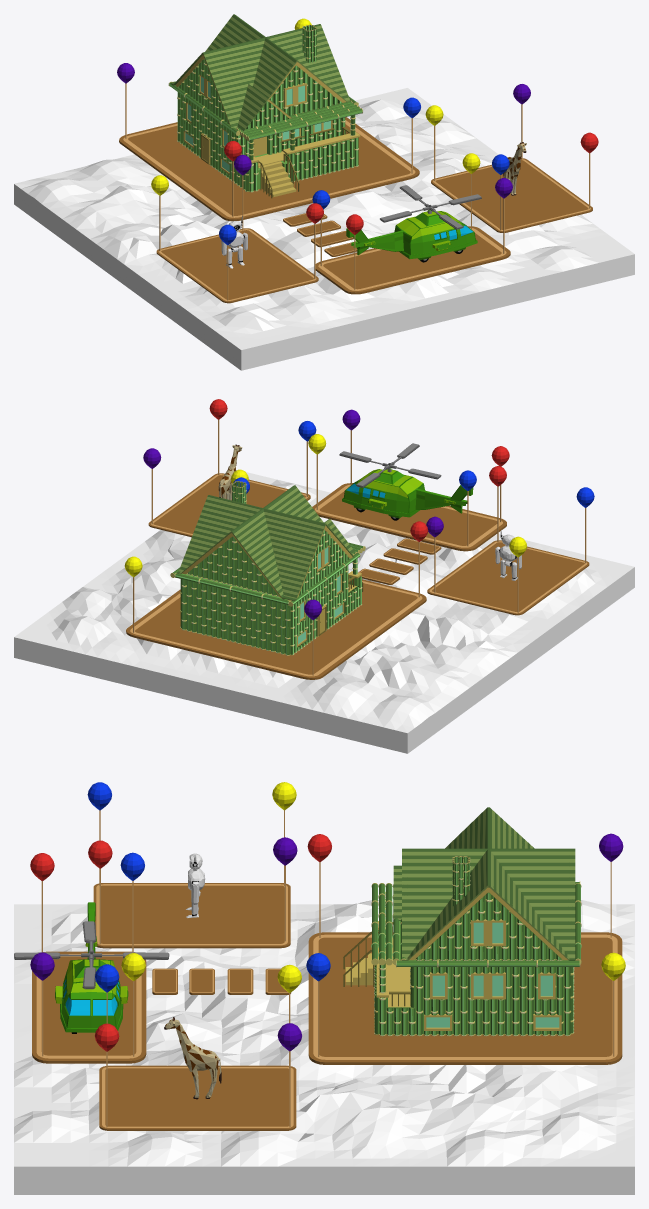
The picture shows the model from 3 angles, top to bottom: view 1: azimuth 30°, elevation 25°; view 2: azimuth 150°, elevation 25°; view 3: azimuth 270°, elevation 25°; orthographic projection. The views are drawn at different scales.
Visible parts, largest first — view 1: Cube.013, Cube.1327, VEHICLES_HELICOPTER, OBJRANDOM_PLATZEEBOT, ANIMAL_JIRAFA; view 2: Cube.013, Cube.1327, VEHICLES_HELICOPTER, OBJRANDOM_PLATZEEBOT, ANIMAL_JIRAFA; view 3: Cube.013, Cube.1327, VEHICLES_HELICOPTER, ANIMAL_JIRAFA, OBJRANDOM_PLATZEEBOT.
Boxes of the visible parts, <box> form: Cube.013: <box>14,18,634,370</box>; Cube.1327: <box>168,14,363,198</box>; VEHICLES_HELICOPTER: <box>346,185,481,262</box>; OBJRANDOM_PLATZEEBOT: <box>221,216,247,268</box>; ANIMAL_JIRAFA: <box>503,142,526,195</box>; Cube.013: <box>14,399,634,753</box>; Cube.1327: <box>170,481,365,655</box>; VEHICLES_HELICOPTER: <box>339,443,473,520</box>; OBJRANDOM_PLATZEEBOT: <box>495,530,521,580</box>; ANIMAL_JIRAFA: <box>218,444,242,500</box>; Cube.013: <box>14,782,634,1194</box>; Cube.1327: <box>343,807,581,1036</box>; VEHICLES_HELICOPTER: <box>14,902,169,1033</box>; ANIMAL_JIRAFA: <box>164,1017,221,1099</box>; OBJRANDOM_PLATZEEBOT: <box>186,853,205,917</box>.
Bounding box in the file's own units: 4000 × 1647 × 4001.
33 materials, 3 textured.
